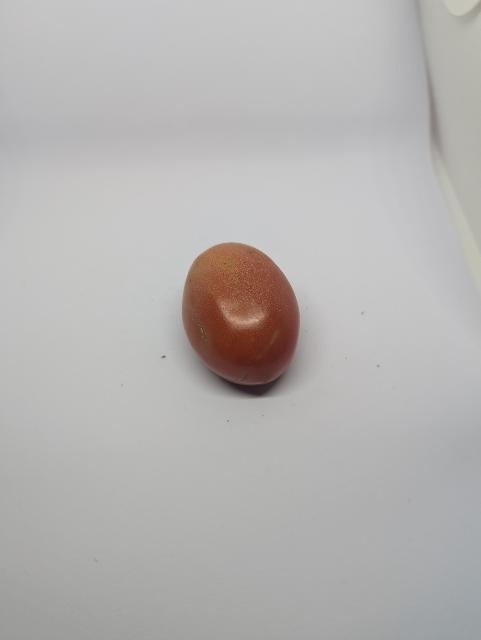red: (176, 239, 313, 394)
